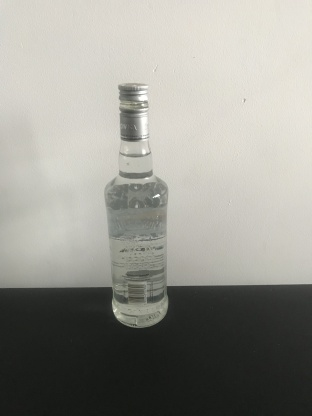nakretka: (117, 81, 150, 142)
